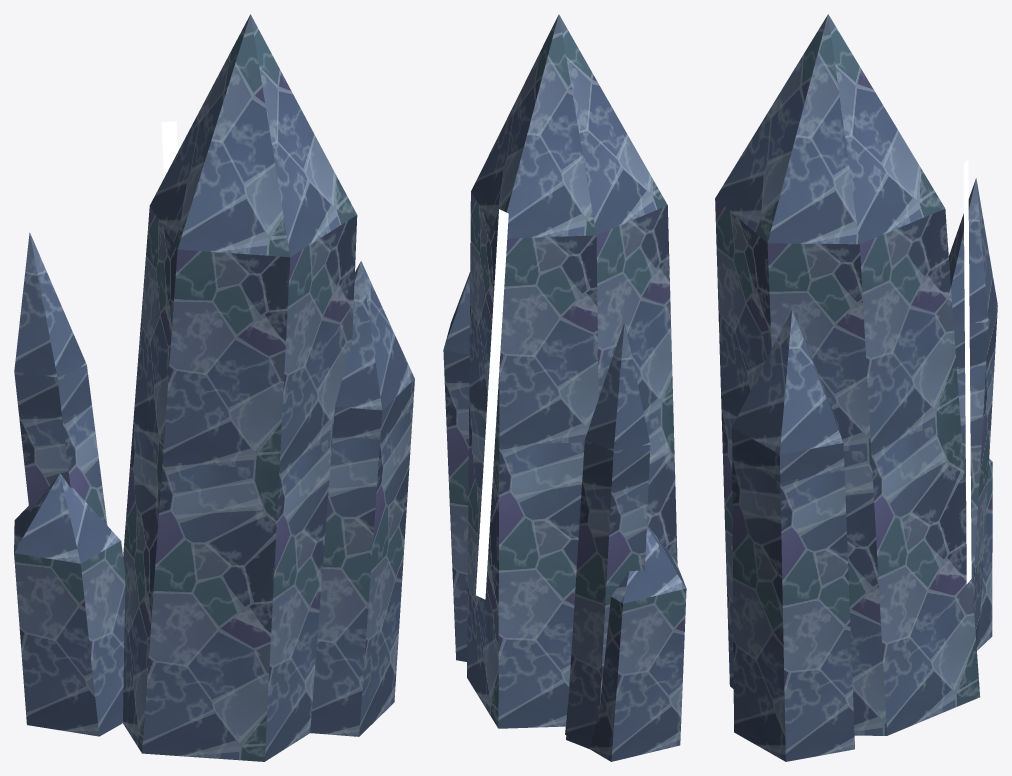
File: Oracle_Crystal_Slab_2_LOD1.gltf
3 views of the same model, side by side, from view 1: azimuth 30°, elevation 25°; view 2: azimuth 150°, elevation 25°; view 3: azimuth 270°, elevation 25° (orthographic). The views are drawn at different scales.
Visible parts, largest first — view 1: Oracle_Crystal_Slab_2_LOD1; view 2: Oracle_Crystal_Slab_2_LOD1; view 3: Oracle_Crystal_Slab_2_LOD1.
Part boxes in pixels (x1,y1,x2,y2): Oracle_Crystal_Slab_2_LOD1: (14, 14, 414, 761); Oracle_Crystal_Slab_2_LOD1: (443, 14, 686, 761); Oracle_Crystal_Slab_2_LOD1: (715, 14, 997, 761).
Size of the model in its own units: 17.97 by 37 by 13.76.
2 materials, 2 textured.
